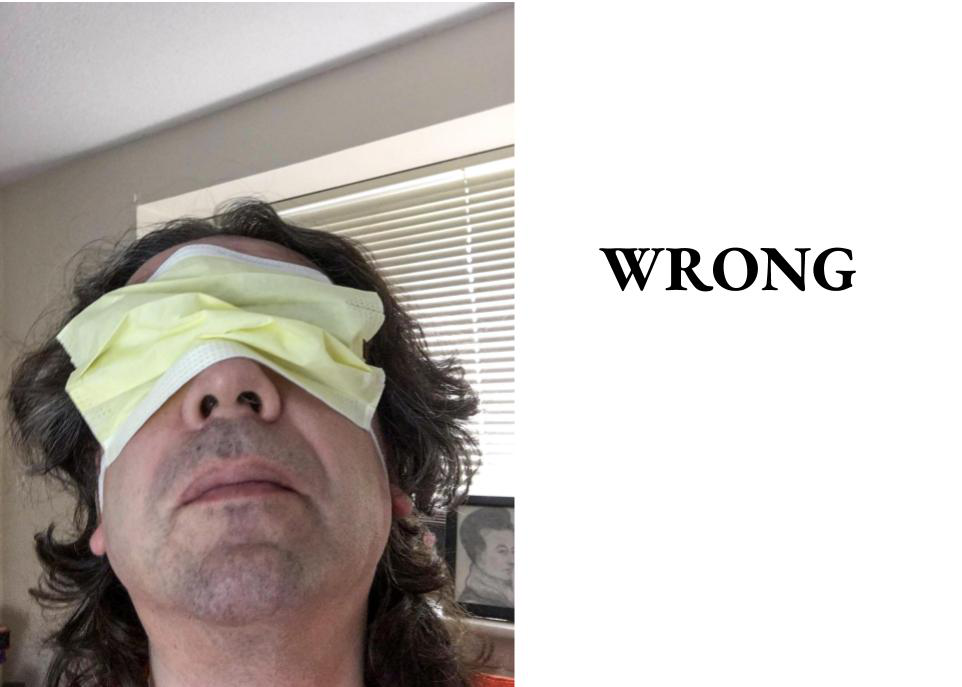mask_weared_incorrect: (67, 250, 401, 632)
